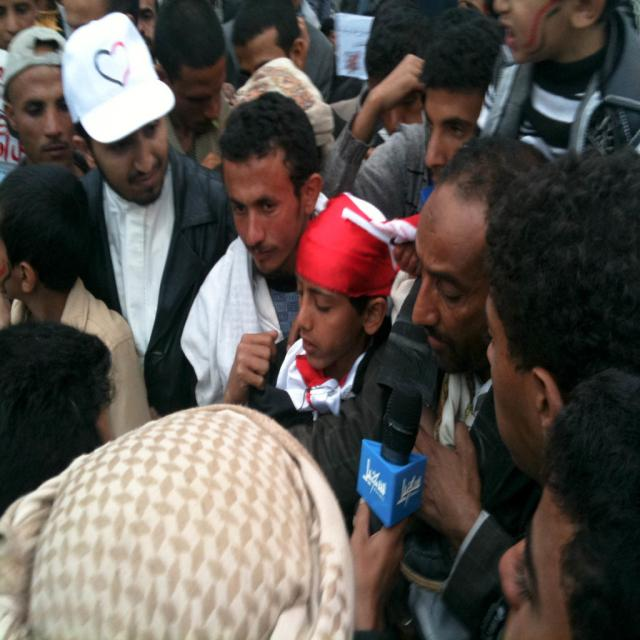Hat: (61, 11, 173, 145), (1, 24, 65, 94)
